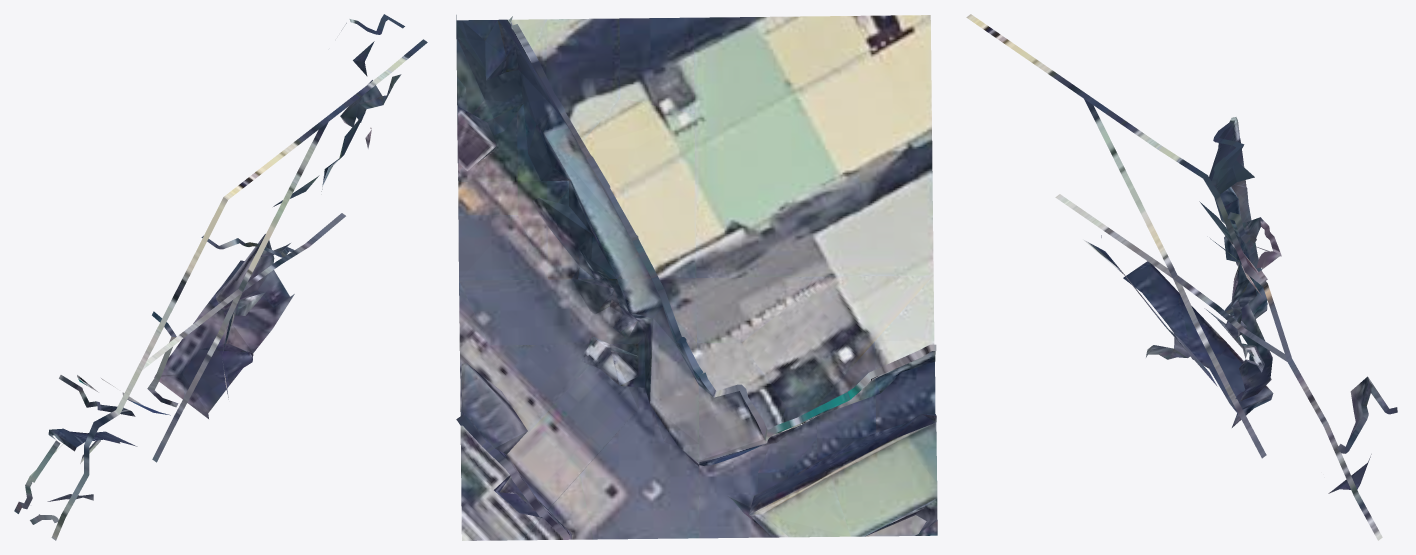
3 renders of one model, left to right at view 1: azimuth 30°, elevation 25°; view 2: azimuth 150°, elevation 25°; view 3: azimuth 270°, elevation 25°, orthographic. The views are drawn at different scales.
Size of the model in its own units: 39.94 by 37.44 by 33.52.
1 material, 1 textured.
